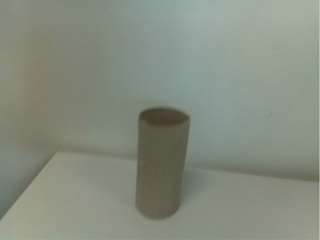rollo papel: (134, 107, 192, 222)
